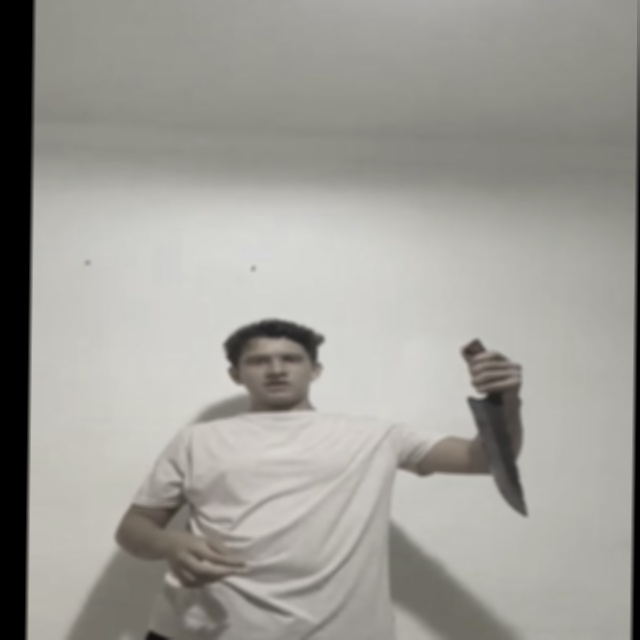Sharp-Object: (463, 393, 532, 515)
